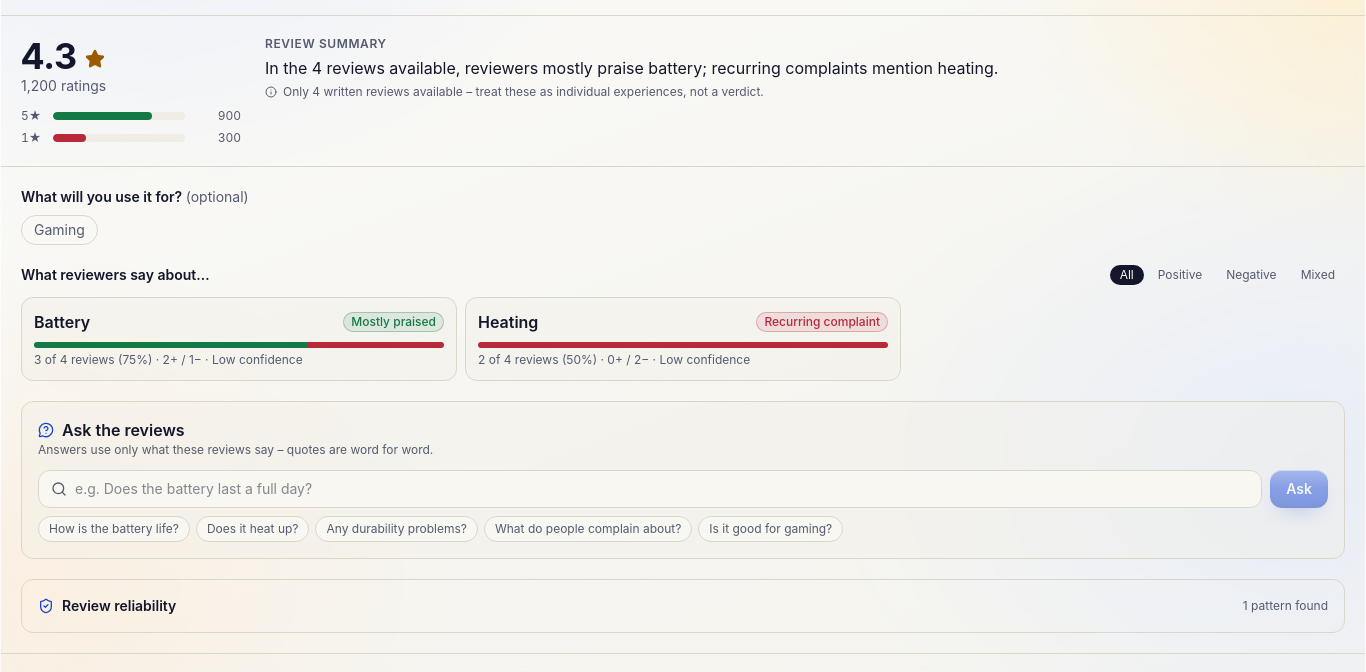
Test: ReviewsSection › withholds an AI summary the server rejected and keeps the quote-based answer
Click the button "How is the battery life?" at (114, 529), box [38,516,190,542]
(page scrolled)
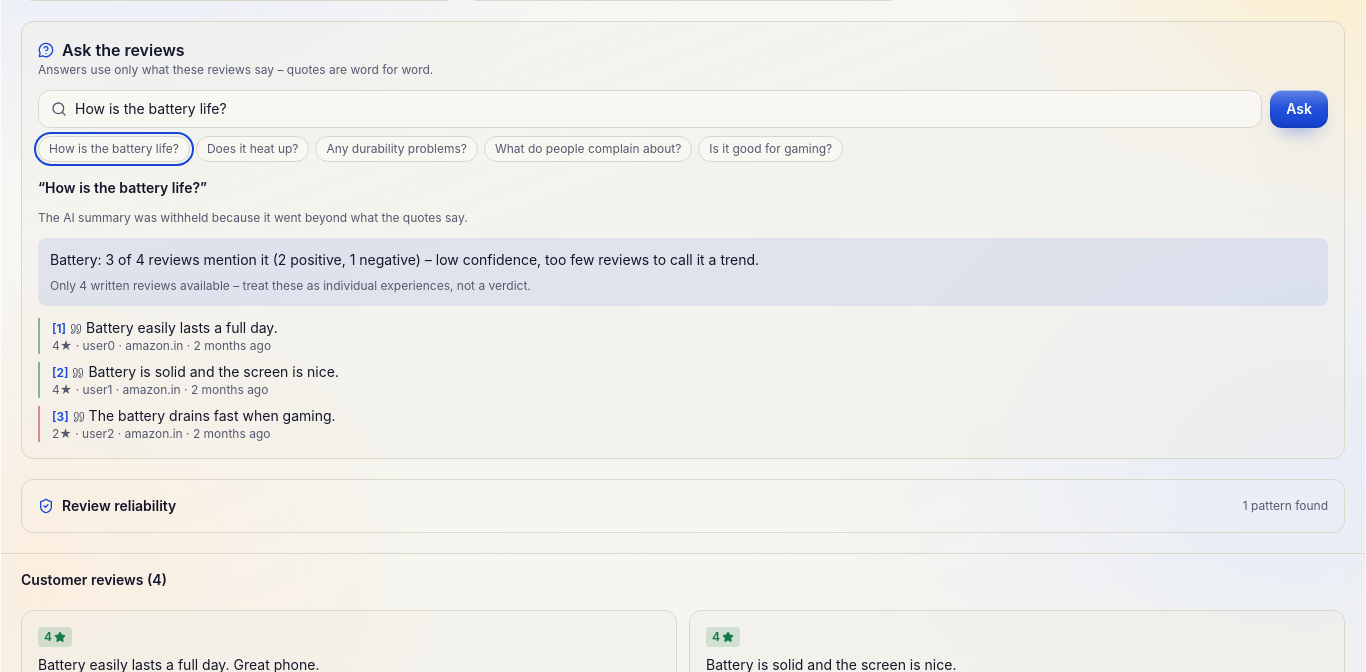
Check: the text with test id "ai-withheld" is shown, box [38,210,468,225]
Check: the element with test id "review-answer" shows "Battery: 3 of 4 reviews mention it", box [50,251,759,268]
